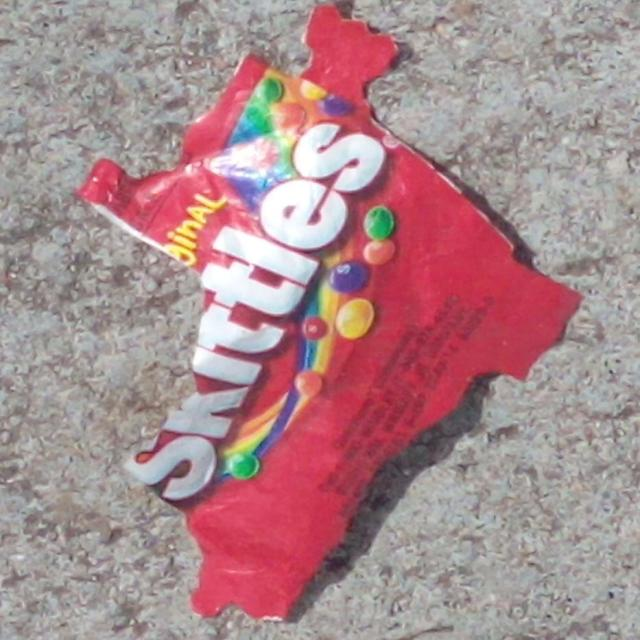litter: (79, 4, 584, 623)
